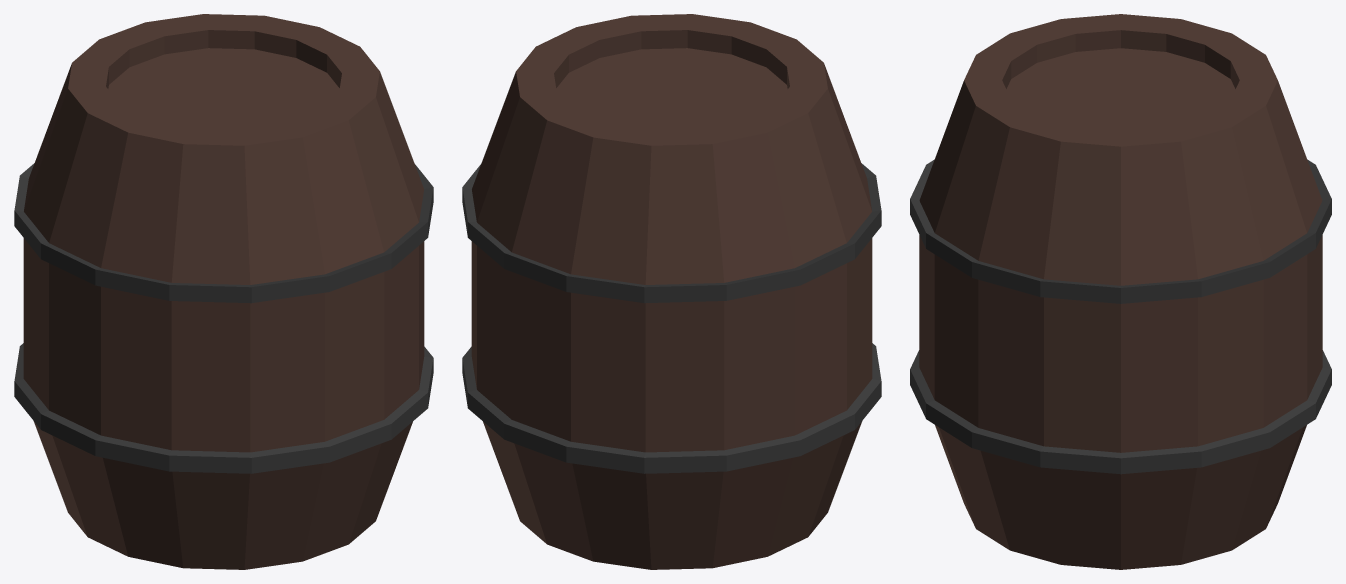
The model's file is Barrel.fbx.
The picture shows the model from 3 angles, left to right: view 1: azimuth 30°, elevation 25°; view 2: azimuth 150°, elevation 25°; view 3: azimuth 270°, elevation 25°; orthographic projection.
Visible parts, largest first — view 1: Barrel.023; view 2: Barrel.023; view 3: Barrel.023.
Boxes of the visible parts, <box> form: Barrel.023: <box>14,14,433,569</box>; Barrel.023: <box>462,14,881,569</box>; Barrel.023: <box>910,14,1331,569</box>.
Size of the model in its own units: 47.81 by 52.94 by 47.81.
